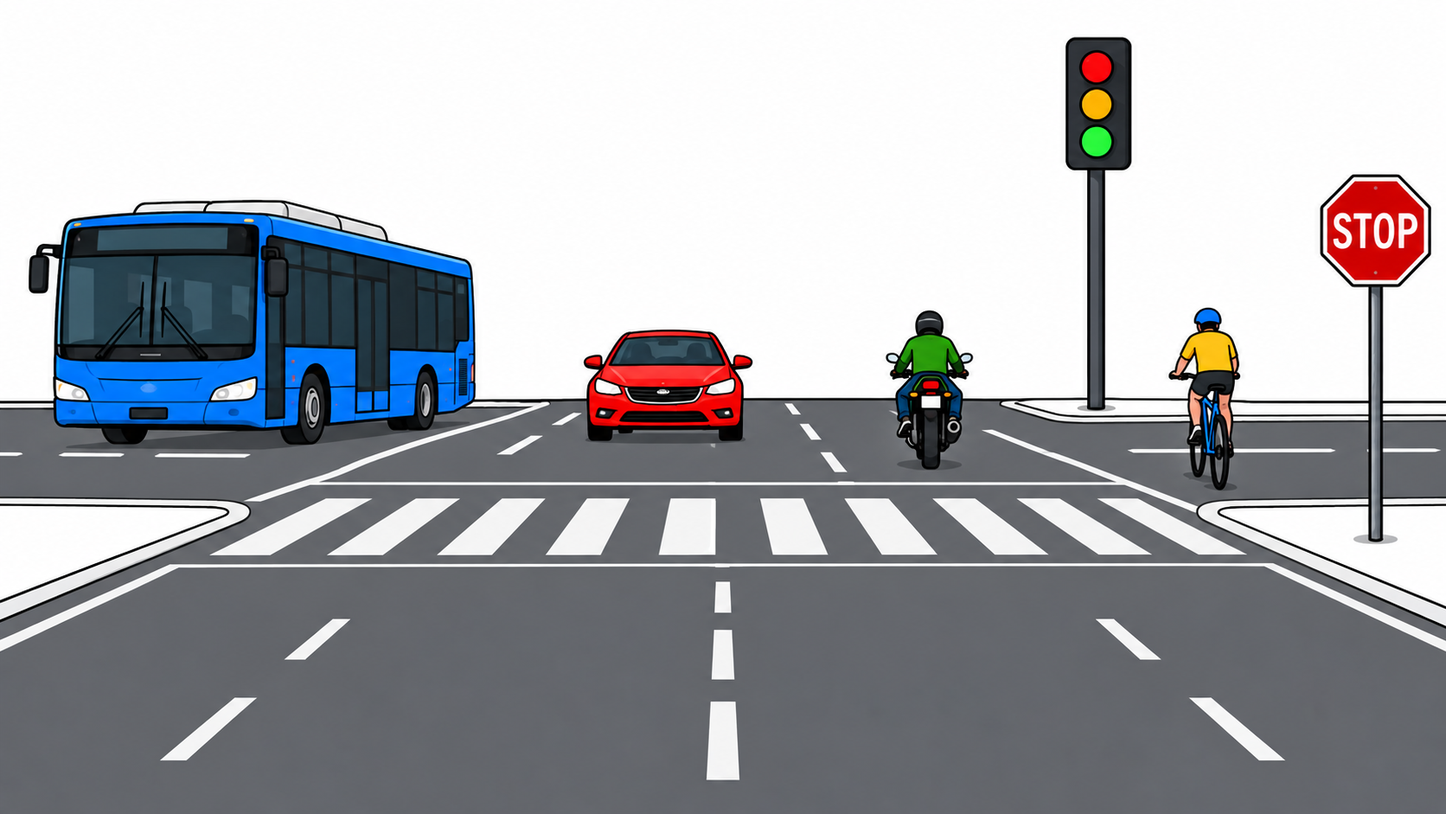bicycle: (1163, 391, 1248, 494)
bus: (28, 201, 477, 443)
car: (583, 330, 755, 442)
motorcycle: (887, 311, 1001, 471)
person: (893, 311, 995, 438), (1166, 308, 1238, 442)
stop_sign: (1319, 174, 1435, 291)
traffic_light: (1065, 37, 1132, 171)
zebra_crossing: (168, 483, 1265, 565)
